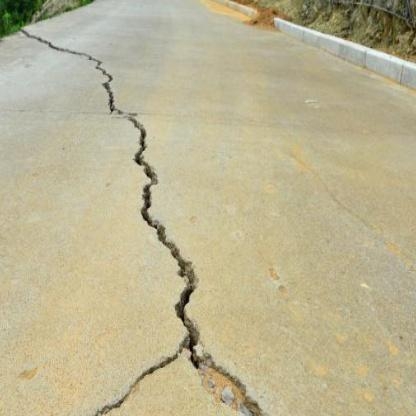Cracks: (18, 27, 293, 416)
